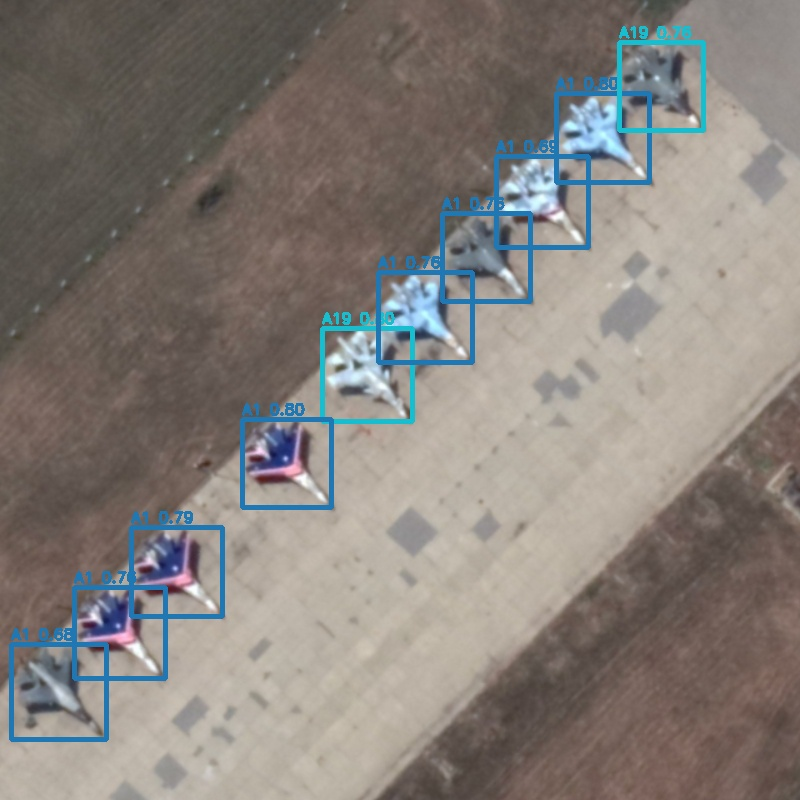A1: (11, 644, 106, 739), (378, 272, 472, 362), (496, 156, 588, 247), (74, 587, 165, 678), (556, 93, 649, 182), (131, 527, 222, 616), (242, 419, 331, 507), (442, 213, 530, 301)
A19: (322, 328, 412, 421), (619, 42, 703, 130)
